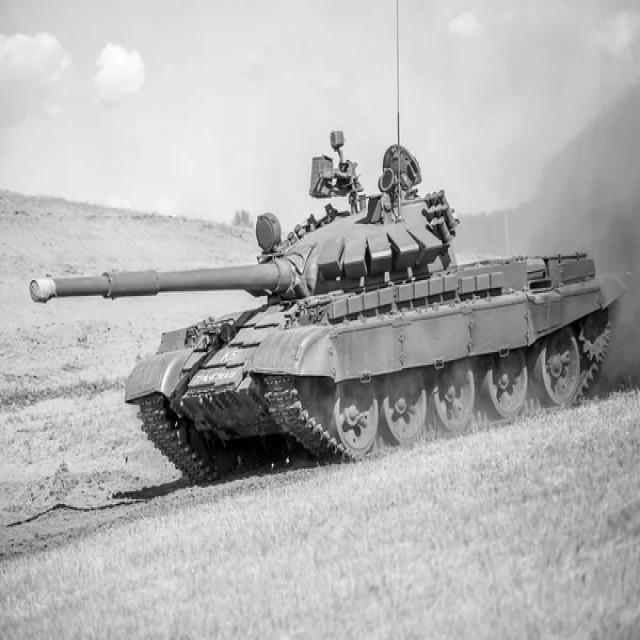Tank: (30, 124, 629, 492)
